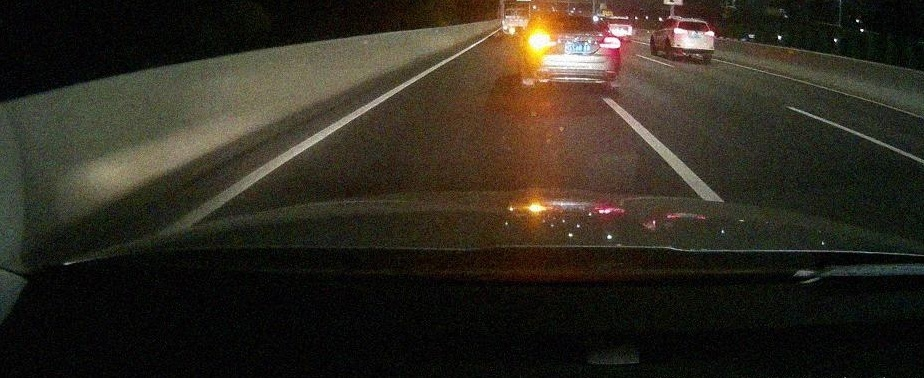L_light: (529, 36, 557, 49), (674, 28, 686, 34)
R_light: (599, 37, 621, 48), (704, 31, 714, 36)
T_light: (564, 16, 576, 19), (691, 21, 697, 24)
night-left: (527, 11, 622, 93)
night-no: (672, 17, 715, 61)
